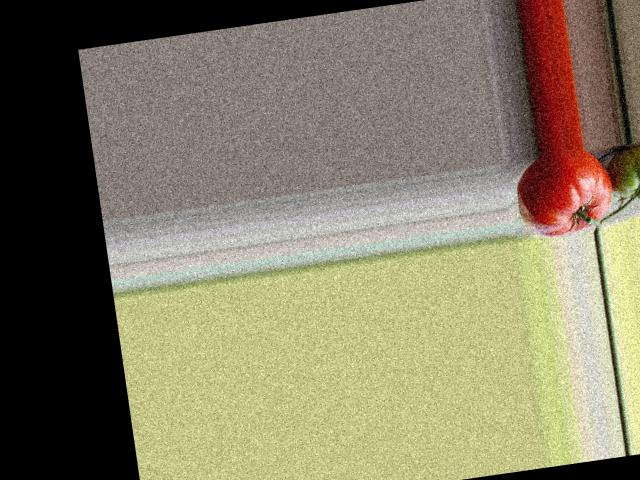tomato: (510, 145, 617, 240)
